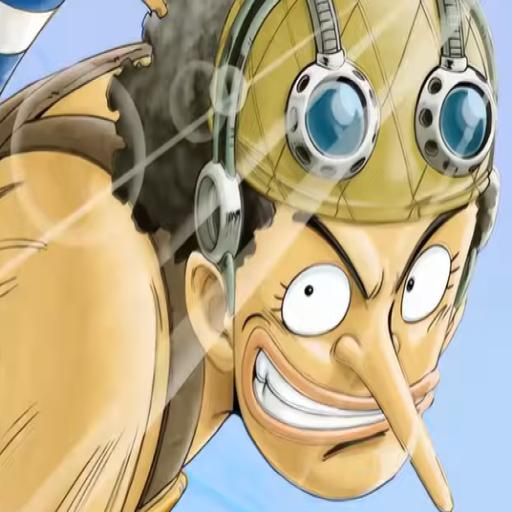Usopp: (1, 0, 501, 512)
